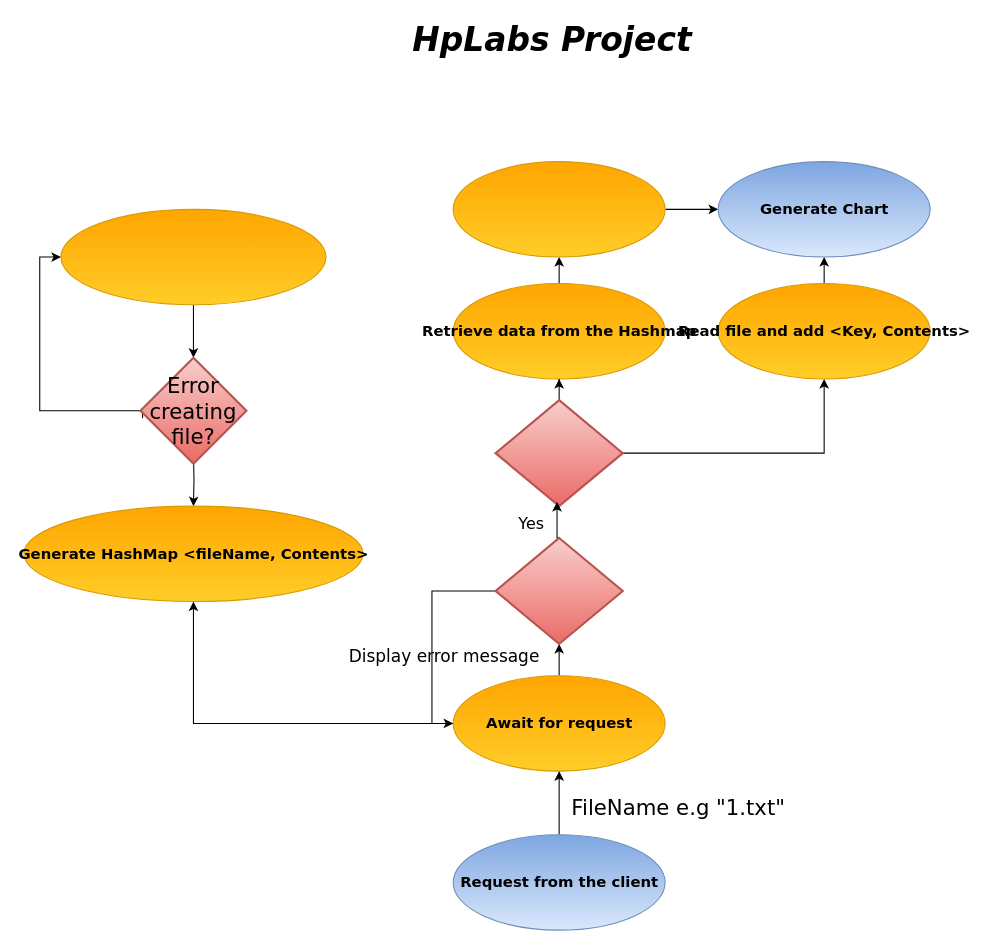
Some shapes in this 988 by 949 pixel diagram are drawn without their labels. The shapes that lost their labels are listed below. From the top down, each one's box as (x1, y1, x2, y2) in pixels, then its label:
(452, 161, 665, 257): Dispatch Key,Value
(60, 208, 326, 305): Generate the files from the generator.cpp
(494, 399, 623, 507): Key exists?
(494, 536, 623, 644): File exists?
